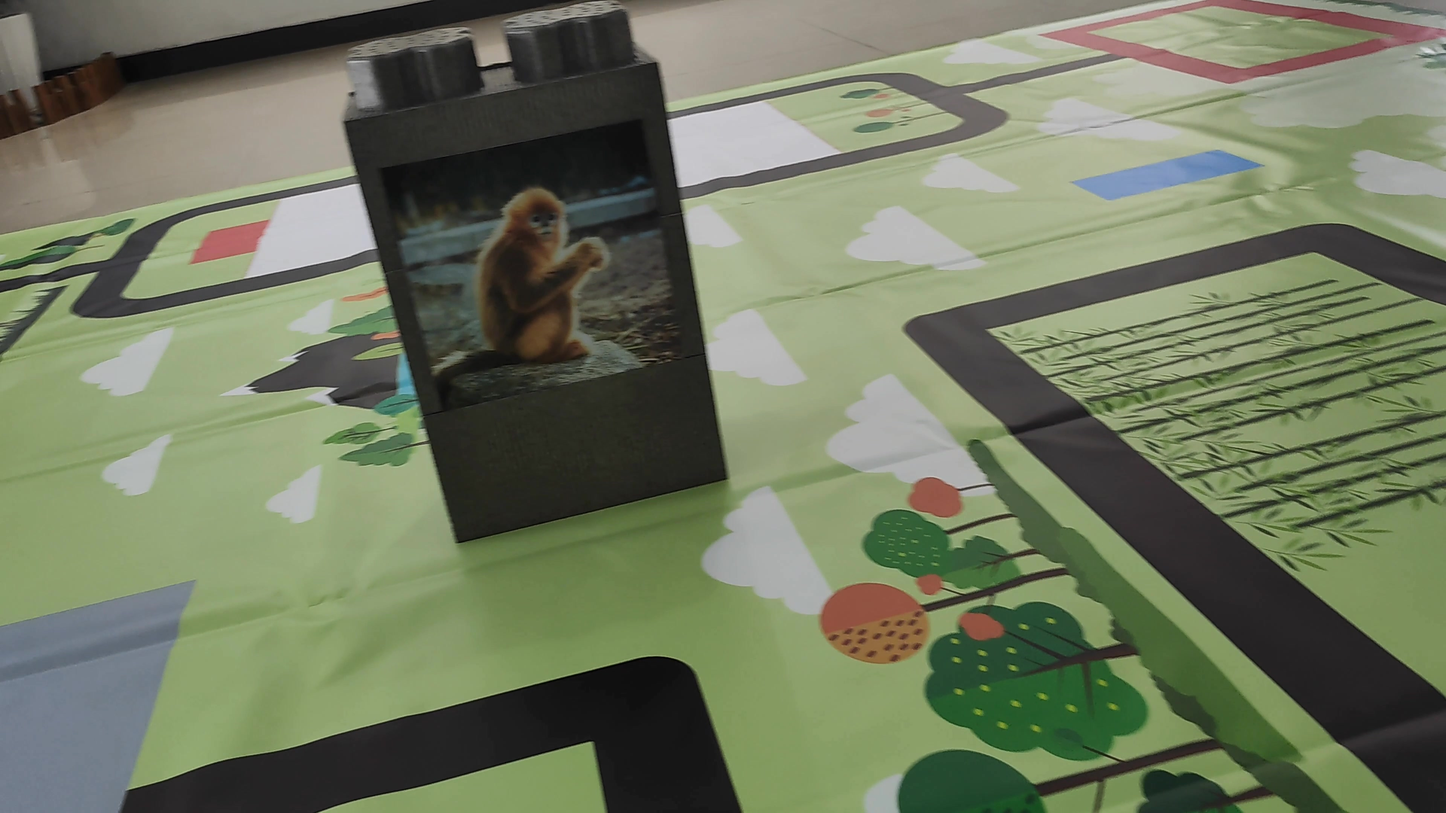monkey: (424, 170, 622, 398)
